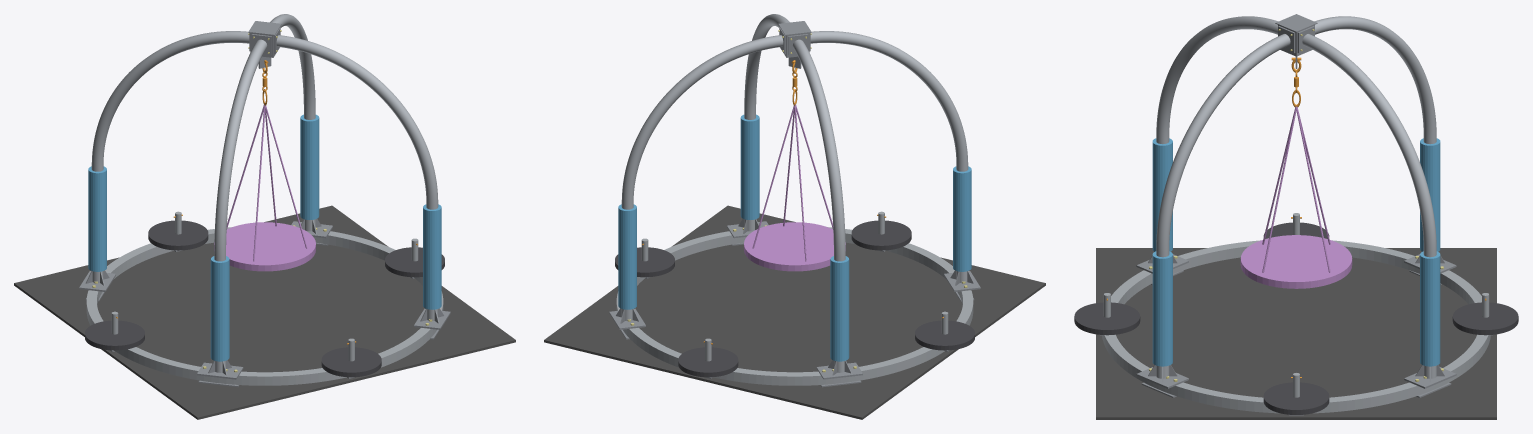
Rendered from swing_stand.glb.
3 views of the same model, side by side, from view 1: azimuth 30°, elevation 25°; view 2: azimuth 150°, elevation 25°; view 3: azimuth 270°, elevation 25° (orthographic). The views are drawn at different scales.
Parts seen in each view (by area): view 1: REF_Stall_mat, REF_Swing_seat, AR_Arm_SE, AR_Arm_NW, AR_Arm_SW, RQ_Ring_quarter_S, REF_Leg_pad_SW, REF_Leg_pad_NE, REF_Leg_pad_NW, REF_Leg_pad_SE, RQ_Ring_quarter_W, W_Plate_N (+6 smaller); view 2: REF_Stall_mat, REF_Swing_seat, AR_Arm_NE, AR_Arm_SW, AR_Arm_NW, RQ_Ring_quarter_N, REF_Leg_pad_NW, REF_Leg_pad_SE, REF_Leg_pad_SW, REF_Leg_pad_NE, RQ_Ring_quarter_W, W_Plate_S (+6 smaller); view 3: REF_Stall_mat, REF_Swing_seat, AR_Arm_NE, AR_Arm_SE, RQ_Ring_quarter_E, AR_Arm_NW, AR_Arm_SW, REF_Leg_pad_NE, REF_Leg_pad_SE, RQ_Ring_quarter_W, W_Plate_E, W_Plate_N (+11 smaller).
Part boxes in pixels (x1,y1,x2,y2): REF_Stall_mat: (14,205,515,419); REF_Swing_seat: (214,222,315,271); AR_Arm_SE: (276,35,438,320); AR_Arm_NW: (91,31,249,283); AR_Arm_SW: (214,39,267,372); RQ_Ring_quarter_S: (219,328,436,385); REF_Leg_pad_SW: (210,256,229,361); REF_Leg_pad_NE: (300,114,319,219); REF_Leg_pad_NW: (88,166,106,271); REF_Leg_pad_SE: (423,204,441,309); RQ_Ring_quarter_W: (86,290,218,383); W_Plate_N: (148,220,208,250); REF_Stall_mat: (544,205,1045,419); REF_Swing_seat: (744,222,845,271); AR_Arm_NE: (621,35,783,320); AR_Arm_SW: (810,31,968,283); AR_Arm_NW: (792,39,845,372); RQ_Ring_quarter_N: (623,328,840,385); REF_Leg_pad_NW: (830,256,849,361); REF_Leg_pad_SE: (740,114,759,219); REF_Leg_pad_SW: (953,166,971,271); REF_Leg_pad_NE: (618,204,636,309); RQ_Ring_quarter_W: (841,290,973,383); W_Plate_S: (851,220,911,250); REF_Stall_mat: (1096,248,1496,419); REF_Swing_seat: (1240,235,1352,288); AR_Arm_NE: (1302,34,1436,378); AR_Arm_SE: (1156,34,1290,378); RQ_Ring_quarter_E: (1158,382,1434,413); AR_Arm_NW: (1314,16,1436,144); AR_Arm_SW: (1156,16,1278,144); REF_Leg_pad_NE: (1420,251,1440,366); REF_Leg_pad_SE: (1152,251,1172,366); RQ_Ring_quarter_W: (1173,240,1419,273); W_Plate_E: (1263,382,1329,414); W_Plate_N: (1452,302,1518,335).
Size of the model in its own units: 3.04 by 2.36 by 3.04.
